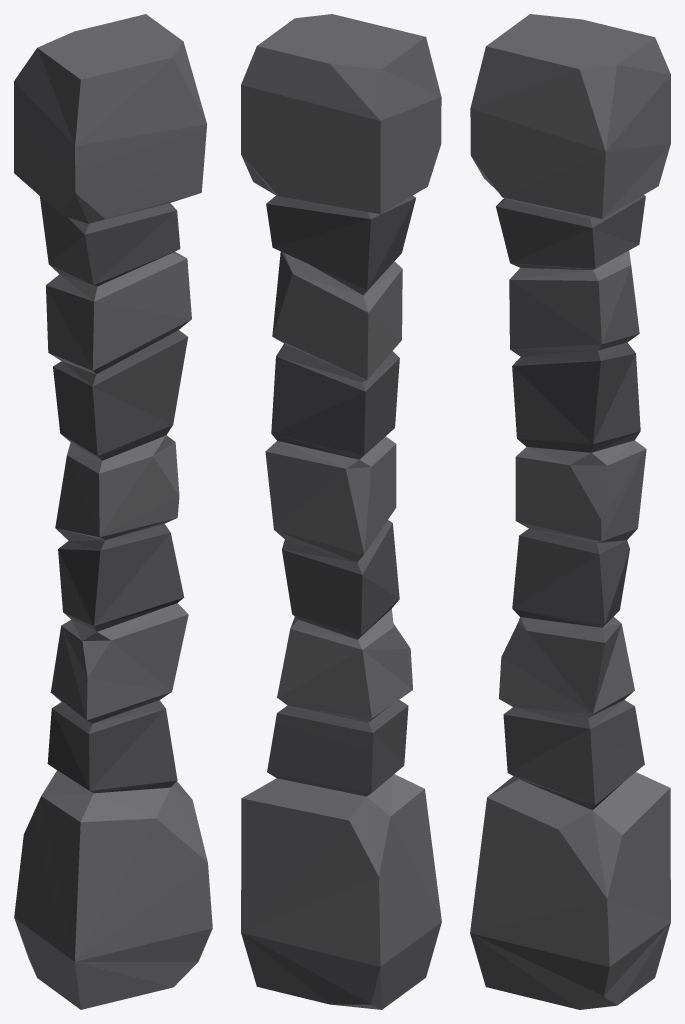
The model's file is SM_Bld_Castle_Pillar_01.gltf.
The picture shows the model from 3 angles, left to right: view 1: azimuth 30°, elevation 25°; view 2: azimuth 150°, elevation 25°; view 3: azimuth 330°, elevation 25°; orthographic projection.
Visible parts, largest first — view 1: SM_Bld_Castle_Pillar_01; view 2: SM_Bld_Castle_Pillar_01; view 3: SM_Bld_Castle_Pillar_01.
Boxes of the visible parts, box(x1,y1,x2,y2) form: SM_Bld_Castle_Pillar_01: box(14, 14, 212, 1009); SM_Bld_Castle_Pillar_01: box(241, 14, 441, 1009); SM_Bld_Castle_Pillar_01: box(470, 14, 670, 1009).
Size of the model in its own units: 0.7908 by 5.09 by 0.6019.
1 material, 1 textured.
